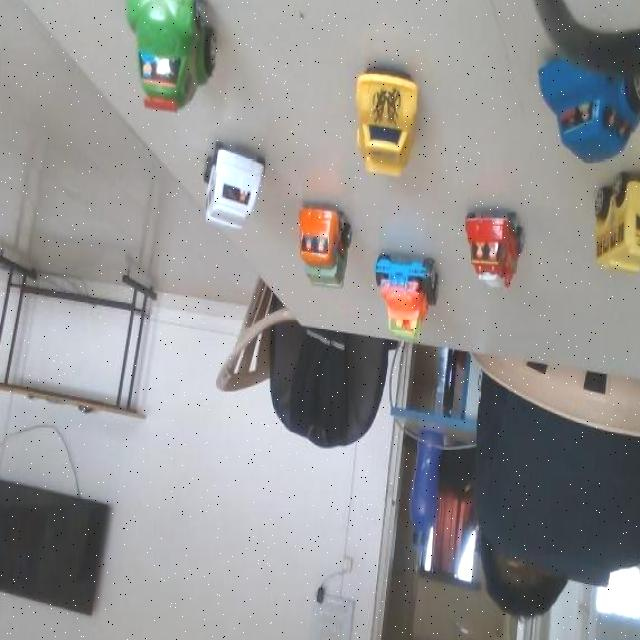car: (53, 0, 258, 155), (291, 30, 465, 190), (168, 116, 282, 256), (534, 41, 624, 159), (284, 181, 357, 310), (368, 245, 453, 355), (454, 198, 519, 290), (580, 181, 640, 262)
